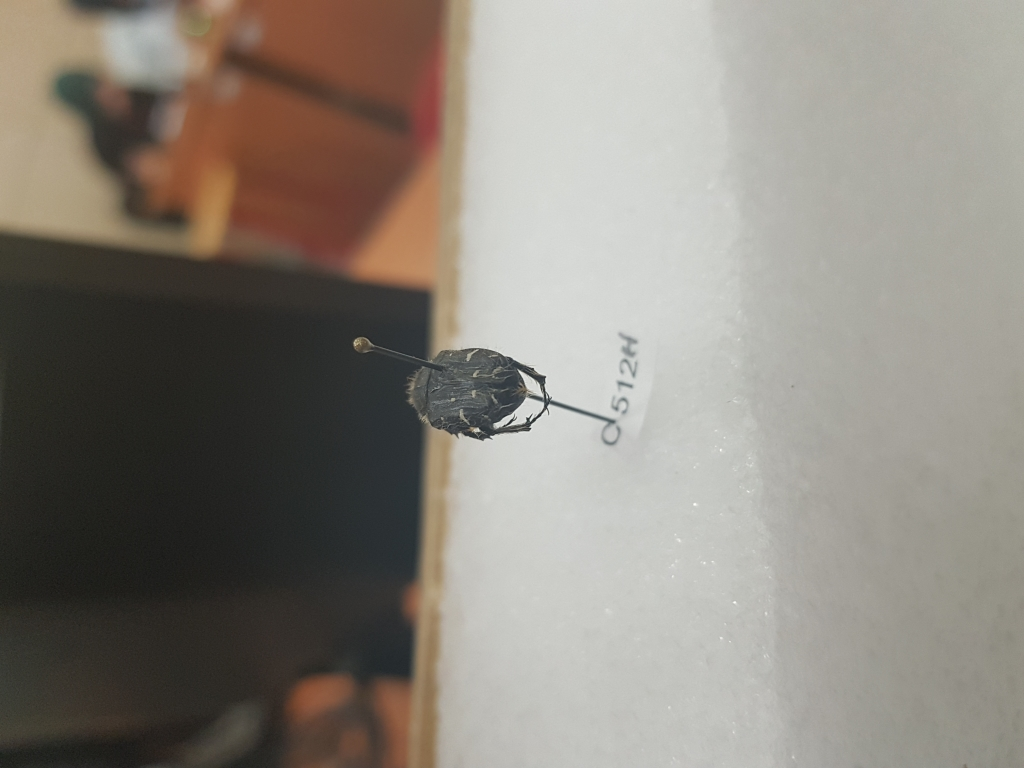Tropinota_senicula: (404, 333, 566, 449)
